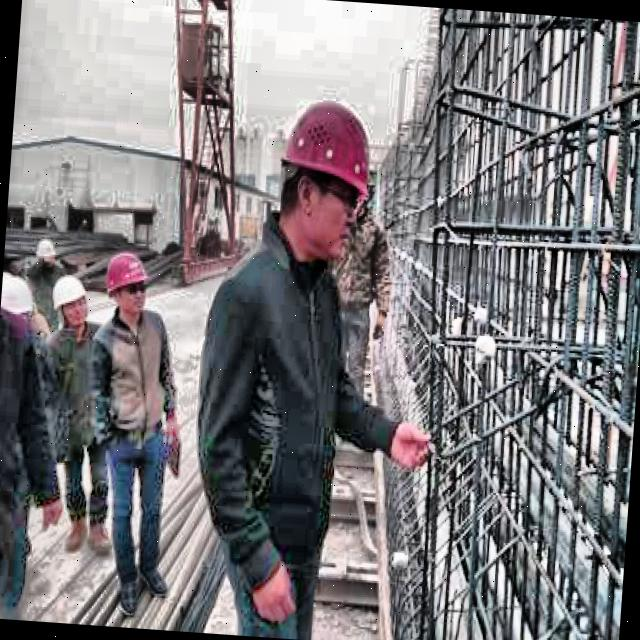helmet: (268, 97, 375, 268), (100, 247, 154, 321), (48, 271, 91, 336), (30, 236, 56, 274)
